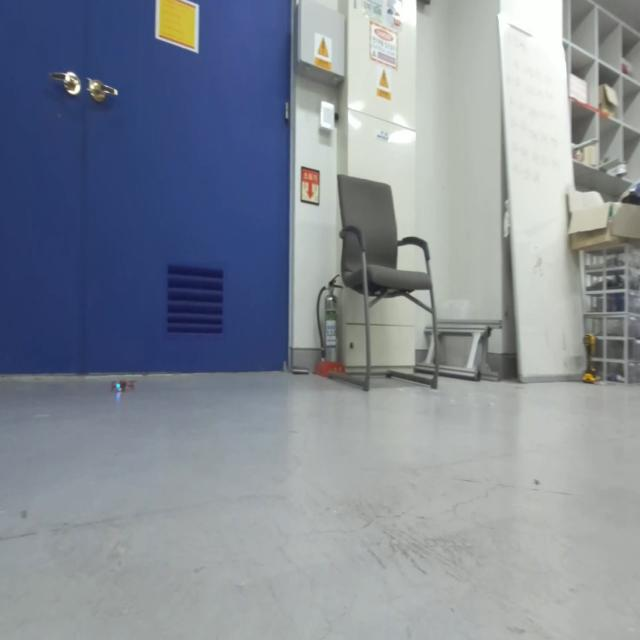crazyflie: (108, 373, 138, 398)
